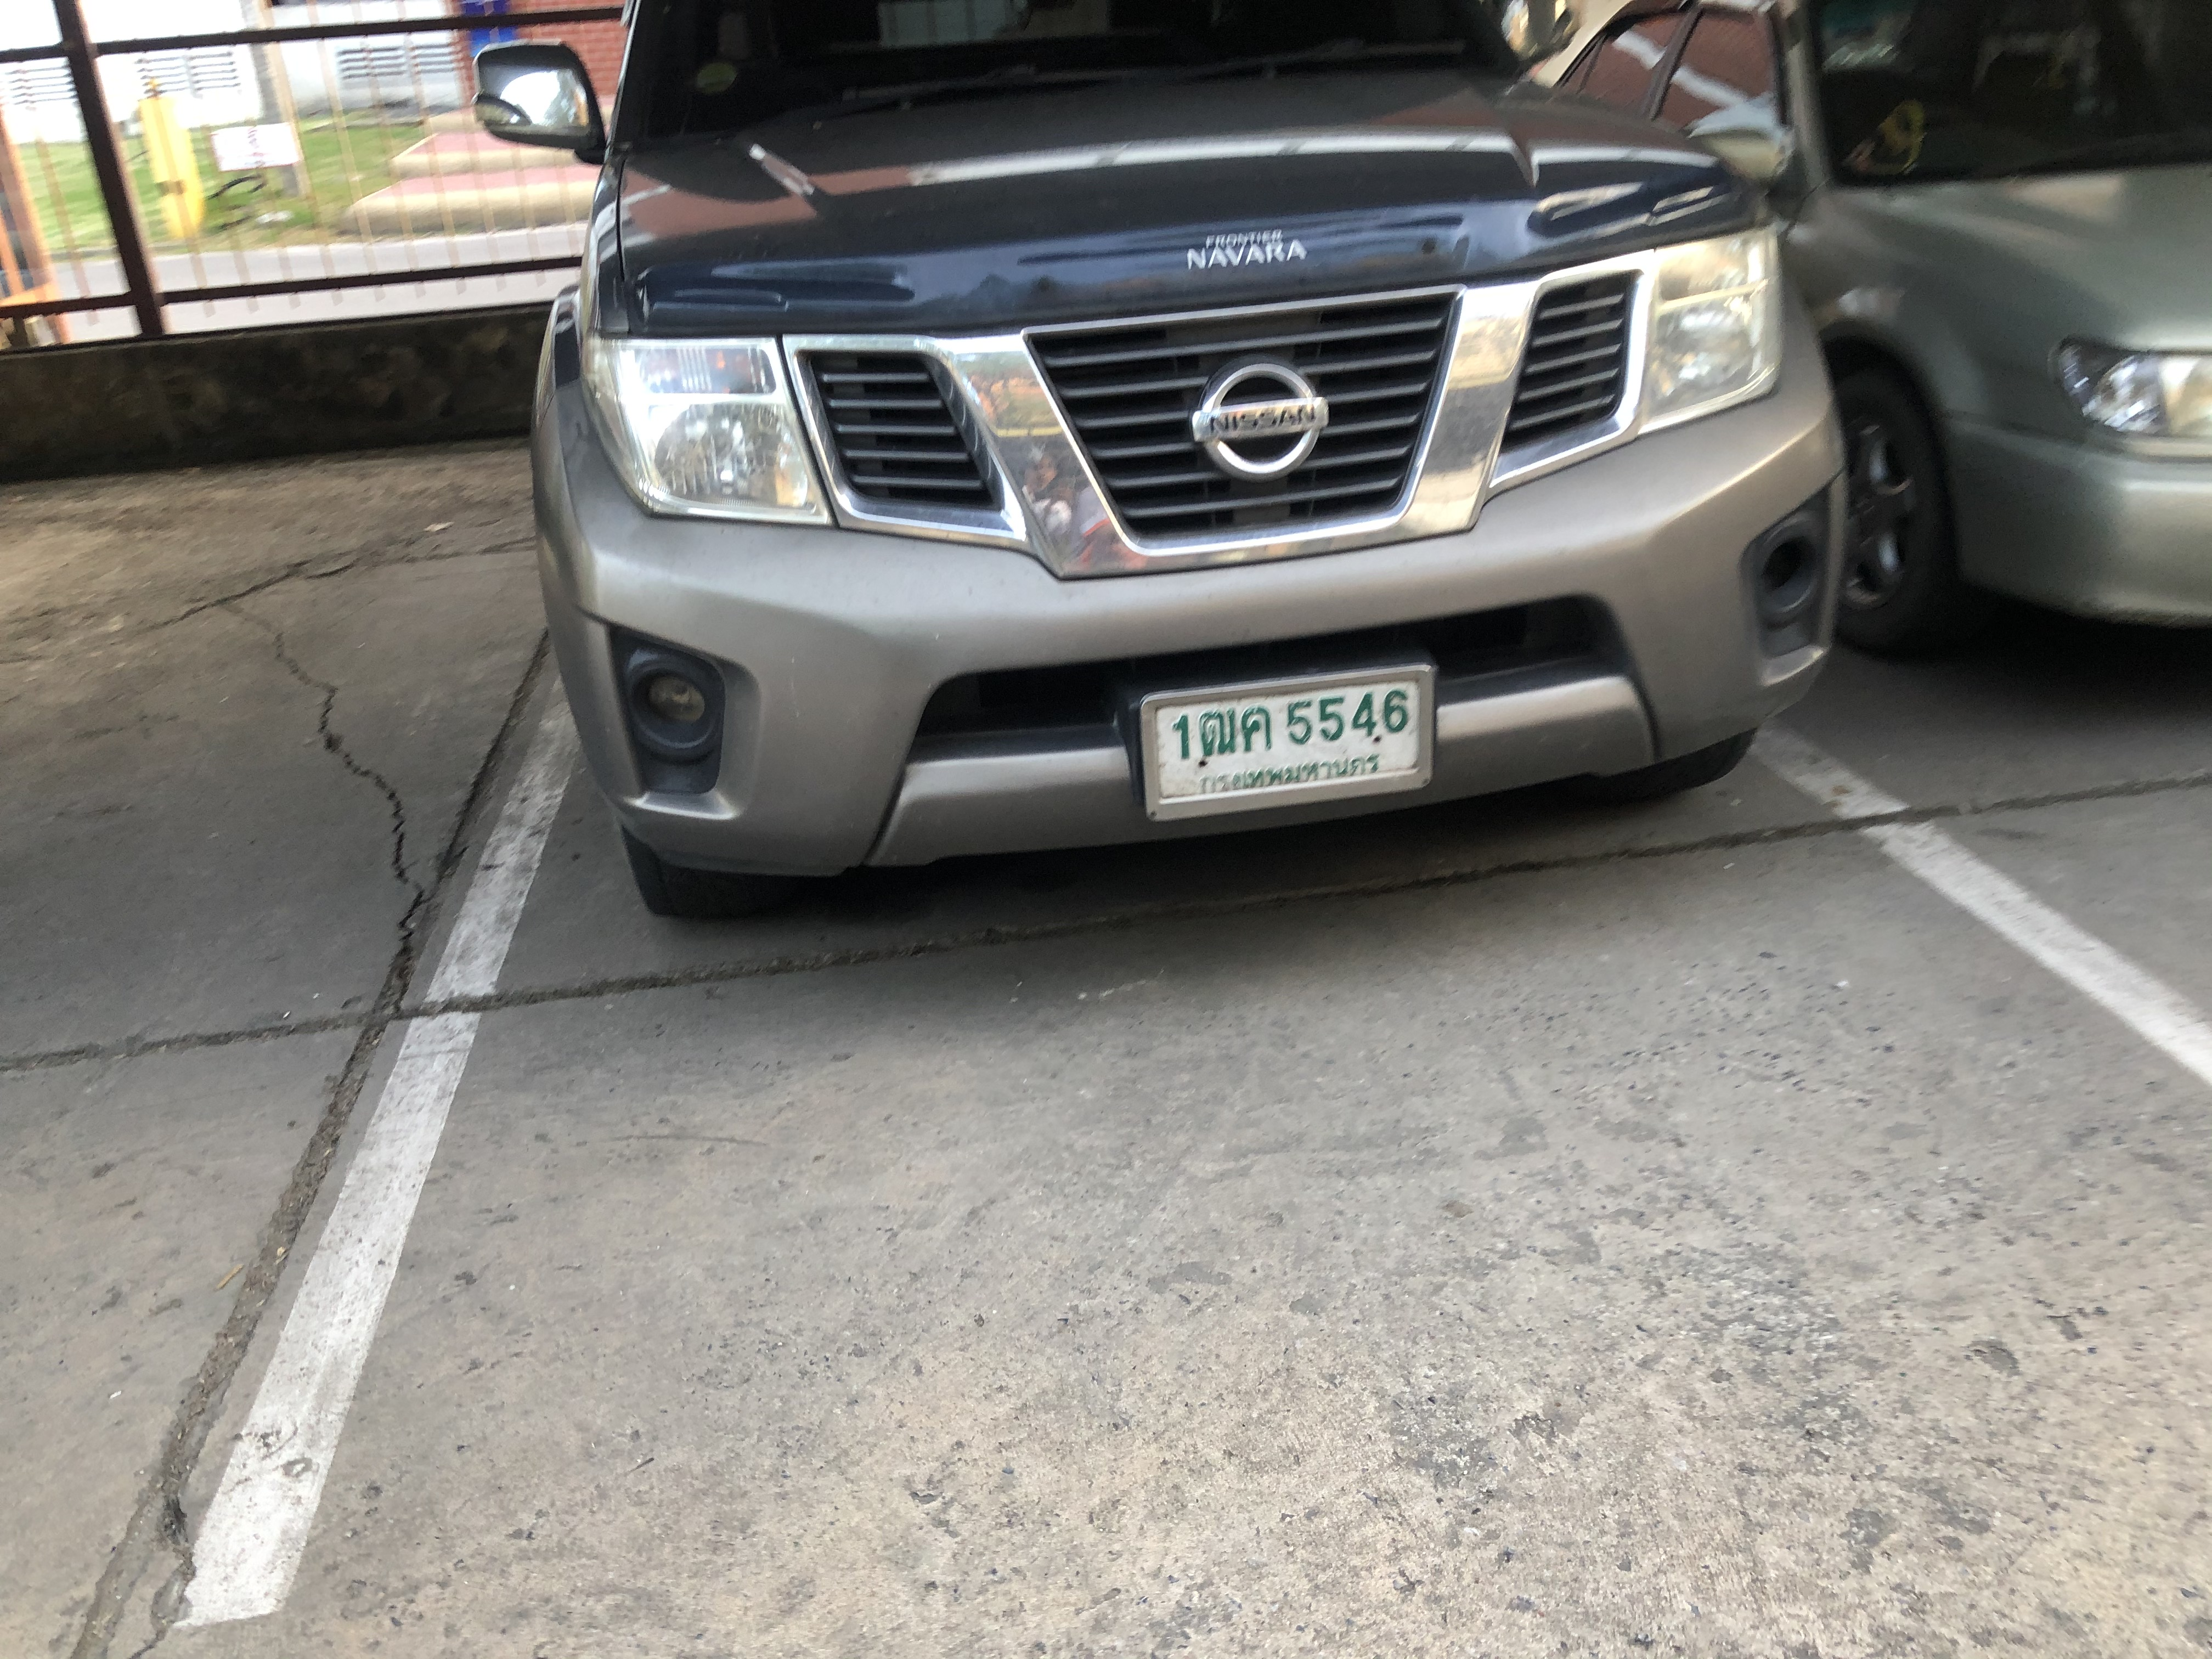in: (1155, 676, 1420, 803)
out: (1122, 659, 1449, 823)
